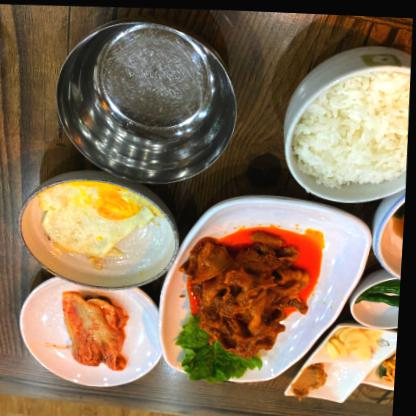Kimchi stew: (63, 292, 142, 377)
jeyuk bokkeum: (189, 222, 317, 360)
rice ball: (295, 68, 412, 195)
